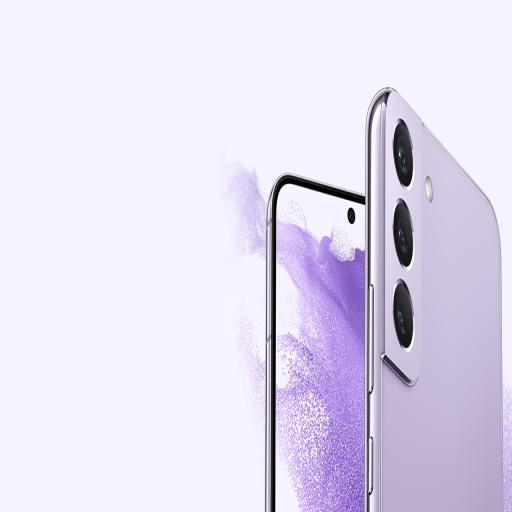phone: (264, 175, 379, 512)
